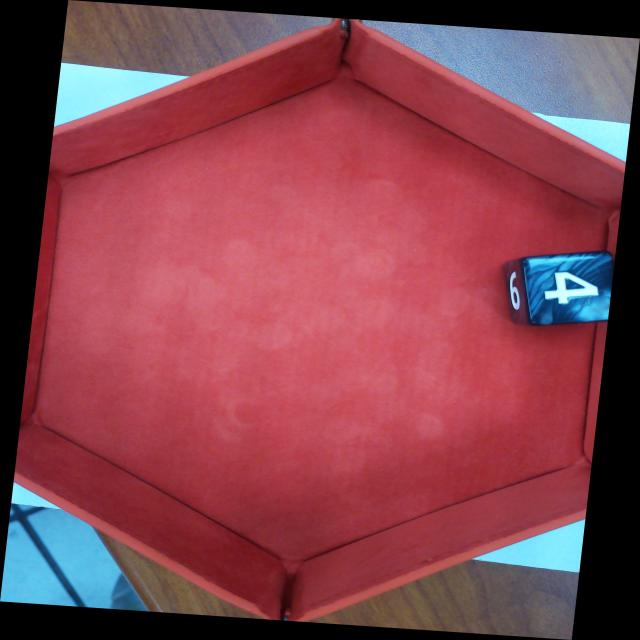dice: (520, 250, 622, 330)
